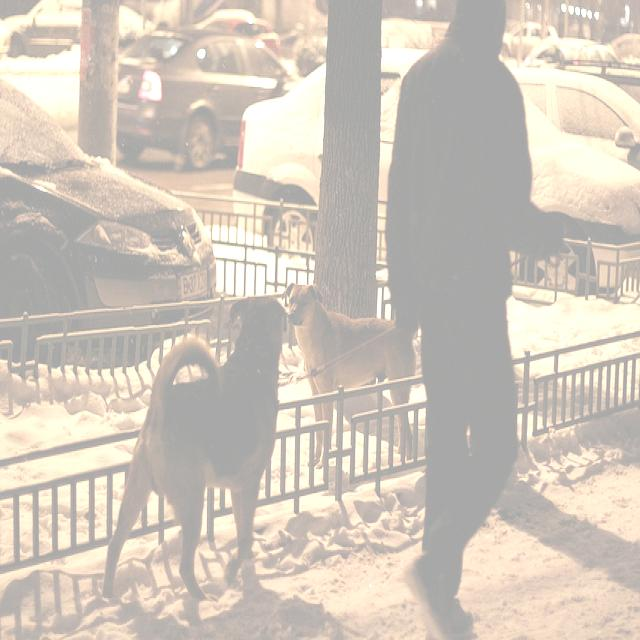Dog: (144, 258, 292, 626), (279, 171, 415, 518)
